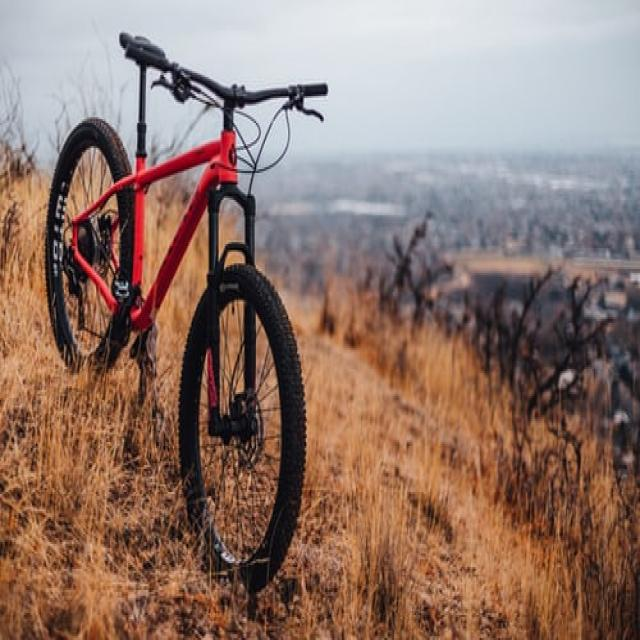bicycle: (45, 32, 328, 591)
